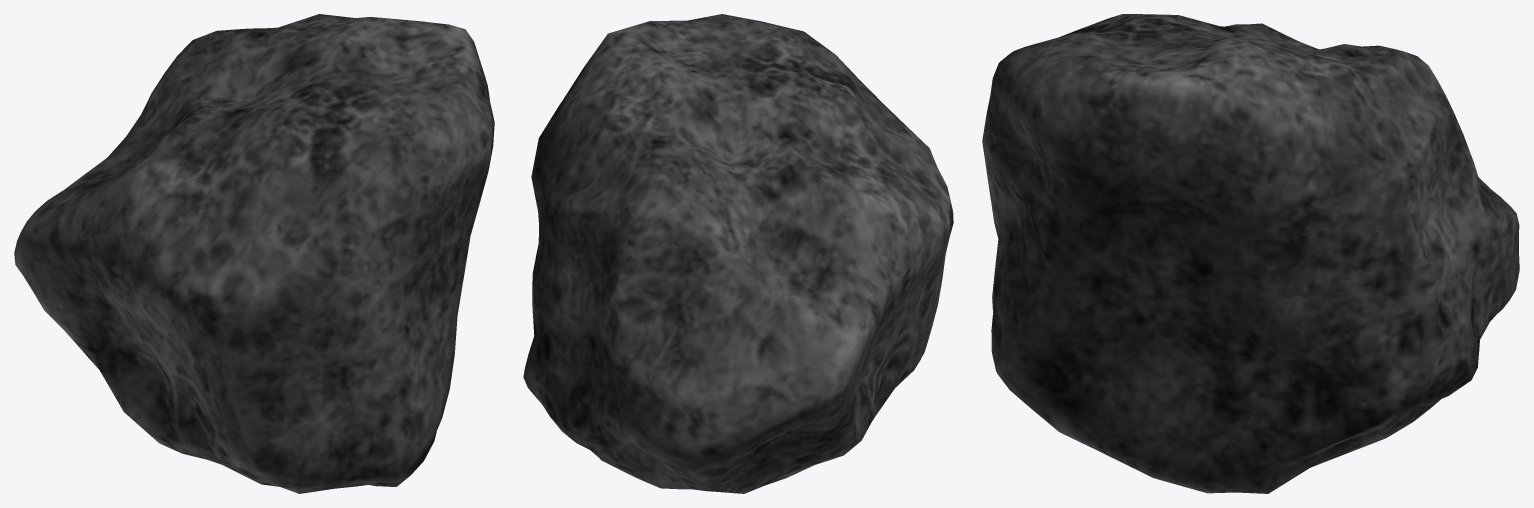
Rendered from asteroid3.glb.
3 renders of one model, left to right at view 1: azimuth 30°, elevation 25°; view 2: azimuth 150°, elevation 25°; view 3: azimuth 270°, elevation 25°, orthographic. The views are drawn at different scales.
Visible parts, largest first — view 1: Asteroid_no_5_Material #3_0; view 2: Asteroid_no_5_Material #3_0; view 3: Asteroid_no_5_Material #3_0.
Part boxes in pixels (x1,y1,x2,y2): Asteroid_no_5_Material #3_0: (14, 14, 494, 493); Asteroid_no_5_Material #3_0: (523, 14, 953, 493); Asteroid_no_5_Material #3_0: (982, 14, 1519, 493).
Size of the model in its own units: 5.63 by 5.95 by 6.4.
Materials: 1 (1 with a texture image).
